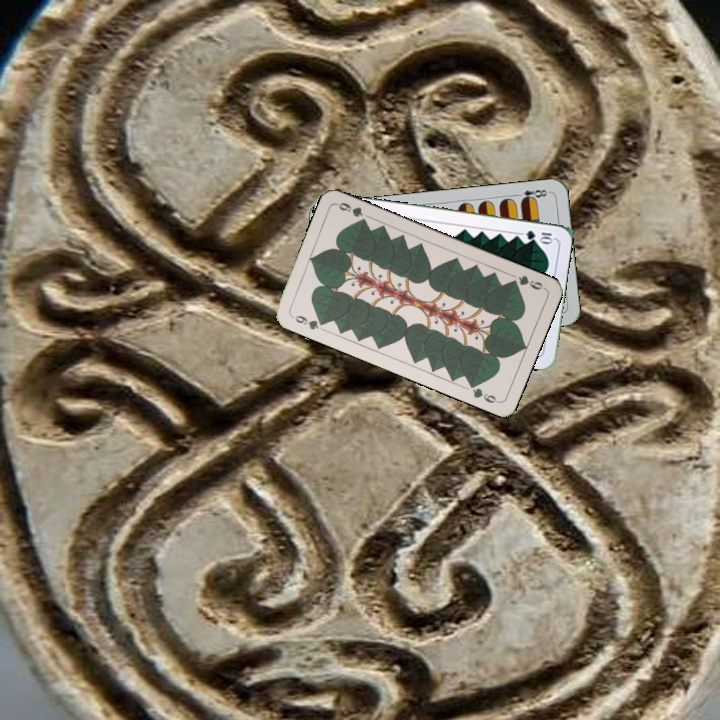E8: (511, 185, 552, 204)
G10: (521, 226, 556, 245)
G9: (506, 271, 547, 293), (288, 311, 329, 332)
